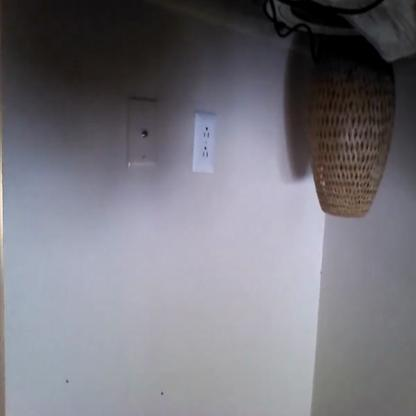OUTLET: (192, 113, 216, 174)
